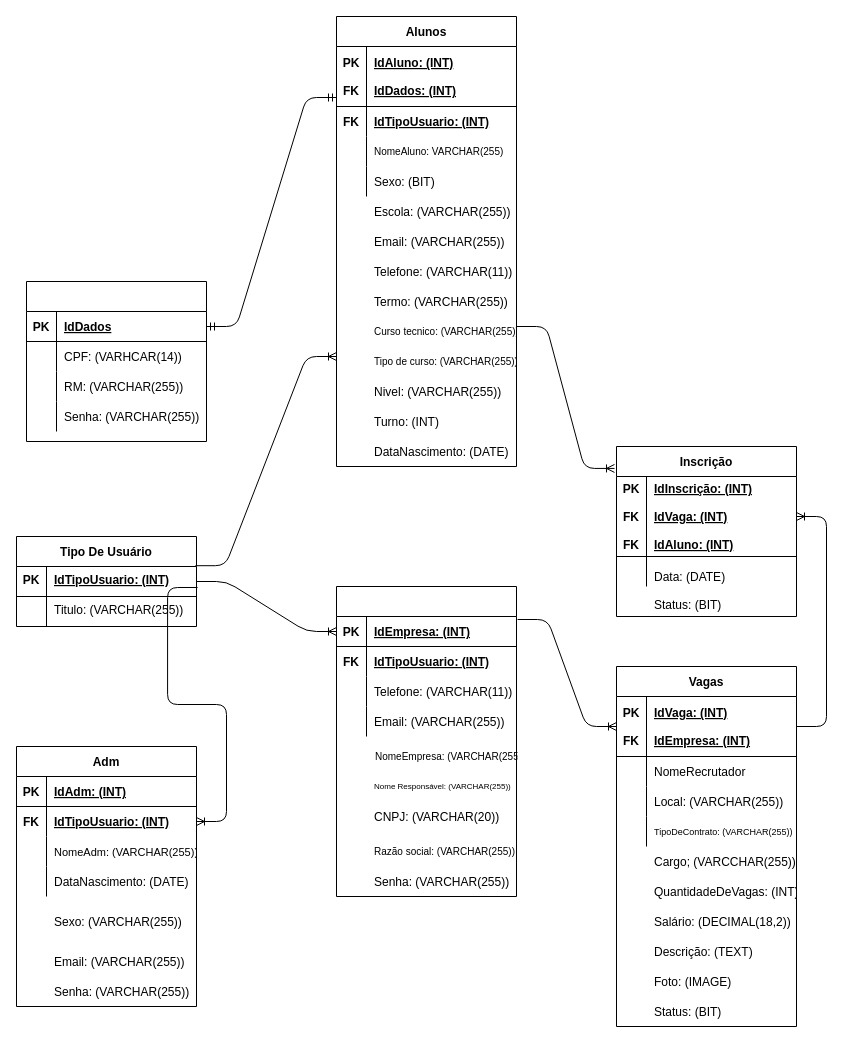
This 843x1043 diagram has some shape labels left out. Each missing label, with the box of its shape:
Dados Sigilosos: (26, 280, 206, 442)
Empresas: (336, 586, 516, 896)
